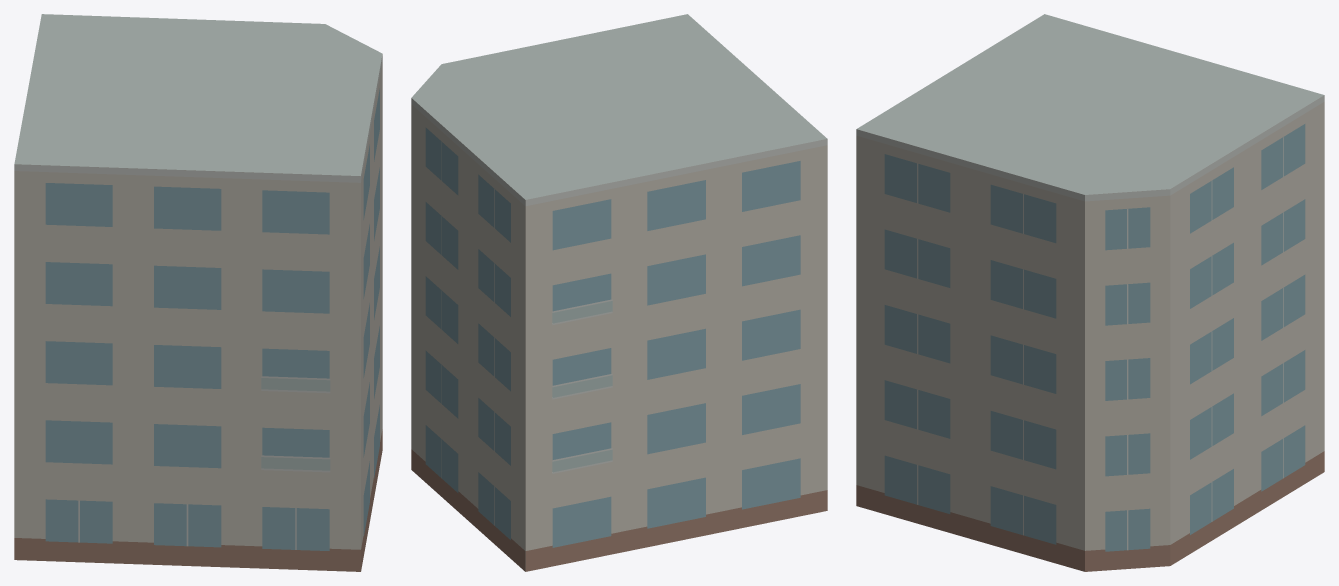
Rendered from survey-upis-32989457.glb.
3 renders of one model, left to right at view 1: azimuth 30°, elevation 25°; view 2: azimuth 150°, elevation 25°; view 3: azimuth 270°, elevation 25°, orthographic. The views are drawn at different scales.
Visible parts, largest first — view 1: survey-upis-32989457.tmp; view 2: survey-upis-32989457.tmp; view 3: survey-upis-32989457.tmp.
Boxes of the visible parts, x1,y1,x2,y2 form: survey-upis-32989457.tmp: (14, 14, 382, 571); survey-upis-32989457.tmp: (411, 14, 827, 571); survey-upis-32989457.tmp: (856, 14, 1324, 571).
Bounding box in the file's own units: 14.69 × 14.25 × 16.06.
